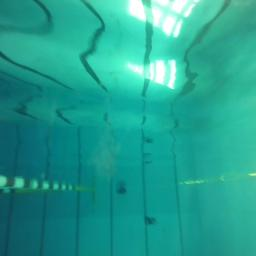Full: (116, 186, 125, 194)
Side: (144, 216, 156, 226)
